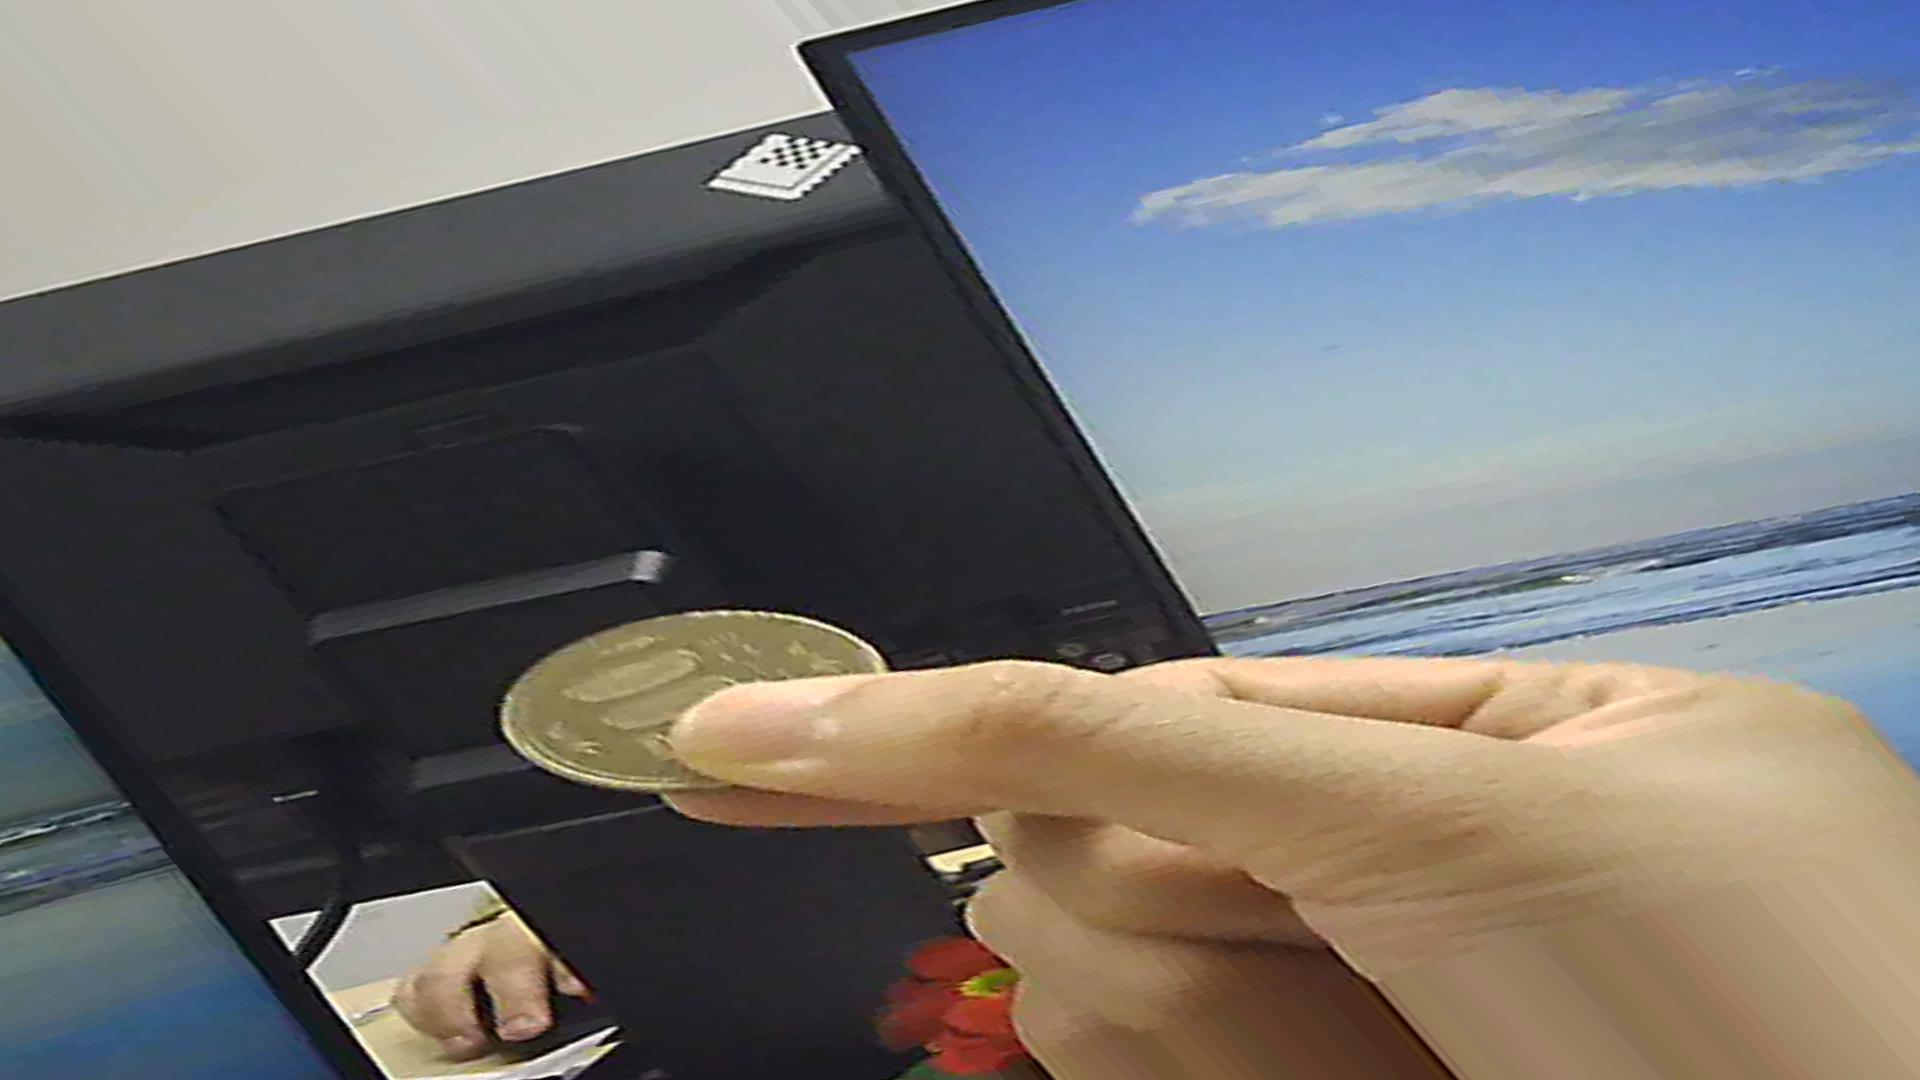500 Yen: (501, 592, 873, 800)
